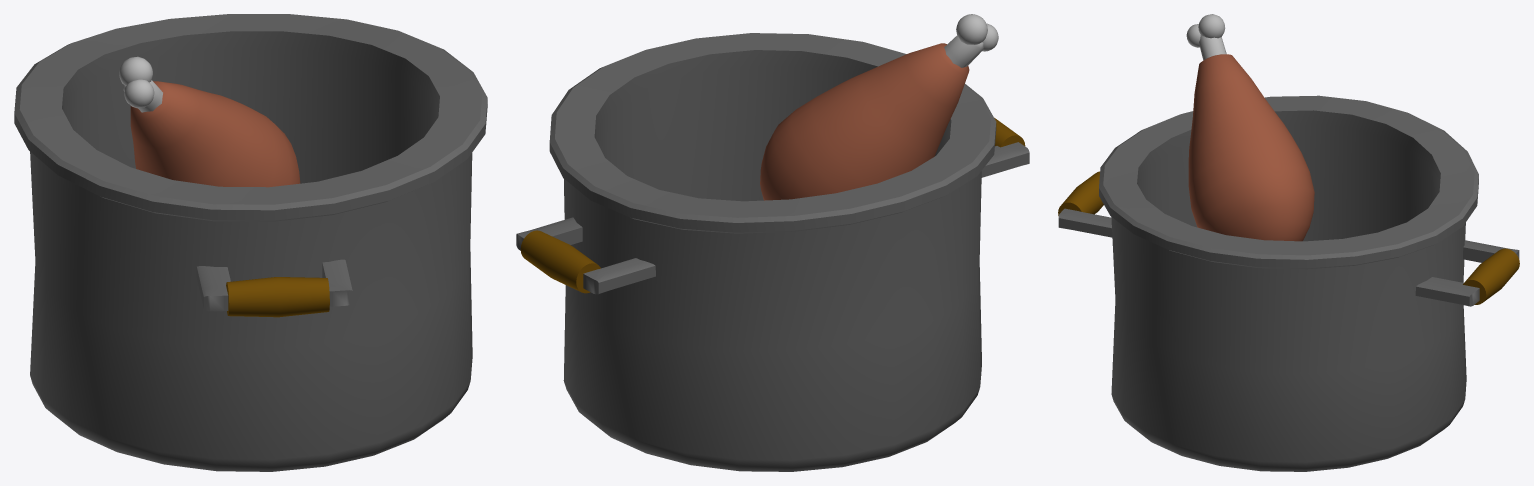
The model's file is pot_and_bone.glb.
3 views of the same model, side by side, from view 1: azimuth 30°, elevation 25°; view 2: azimuth 150°, elevation 25°; view 3: azimuth 270°, elevation 25° (orthographic). The views are drawn at different scales.
Visible parts, largest first — view 1: Cylinder, Sphere; view 2: Cylinder, Sphere; view 3: Cylinder, Sphere.
Boxes of the visible parts, left/top/right/bottom form: Cylinder: left=14, top=14, right=487, bottom=471; Sphere: left=119, top=56, right=300, bottom=187; Cylinder: left=516, top=33, right=1029, bottom=471; Sphere: left=760, top=14, right=998, bottom=200; Cylinder: left=1058, top=95, right=1519, bottom=471; Sphere: left=1186, top=14, right=1314, bottom=241.
Size of the model in its own units: 2.12 by 2.01 by 2.57.
